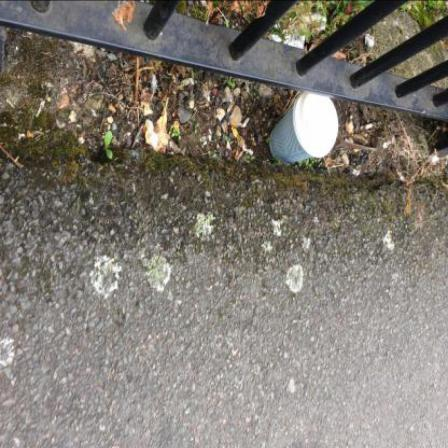Cup: (270, 93, 339, 165)
Lid: (296, 93, 340, 158)
Paper: (269, 29, 306, 49)
Unlabeled litter: (366, 35, 375, 48)
